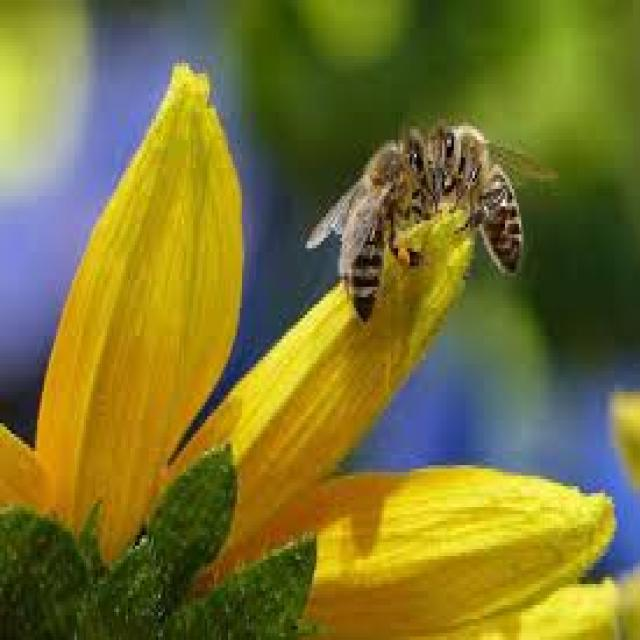Bees: (307, 123, 441, 323), (429, 118, 559, 282)
